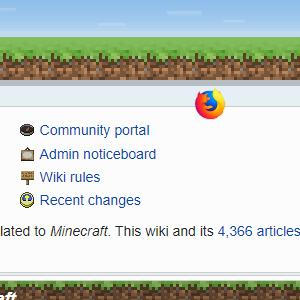firefox: (195, 88, 225, 119)
